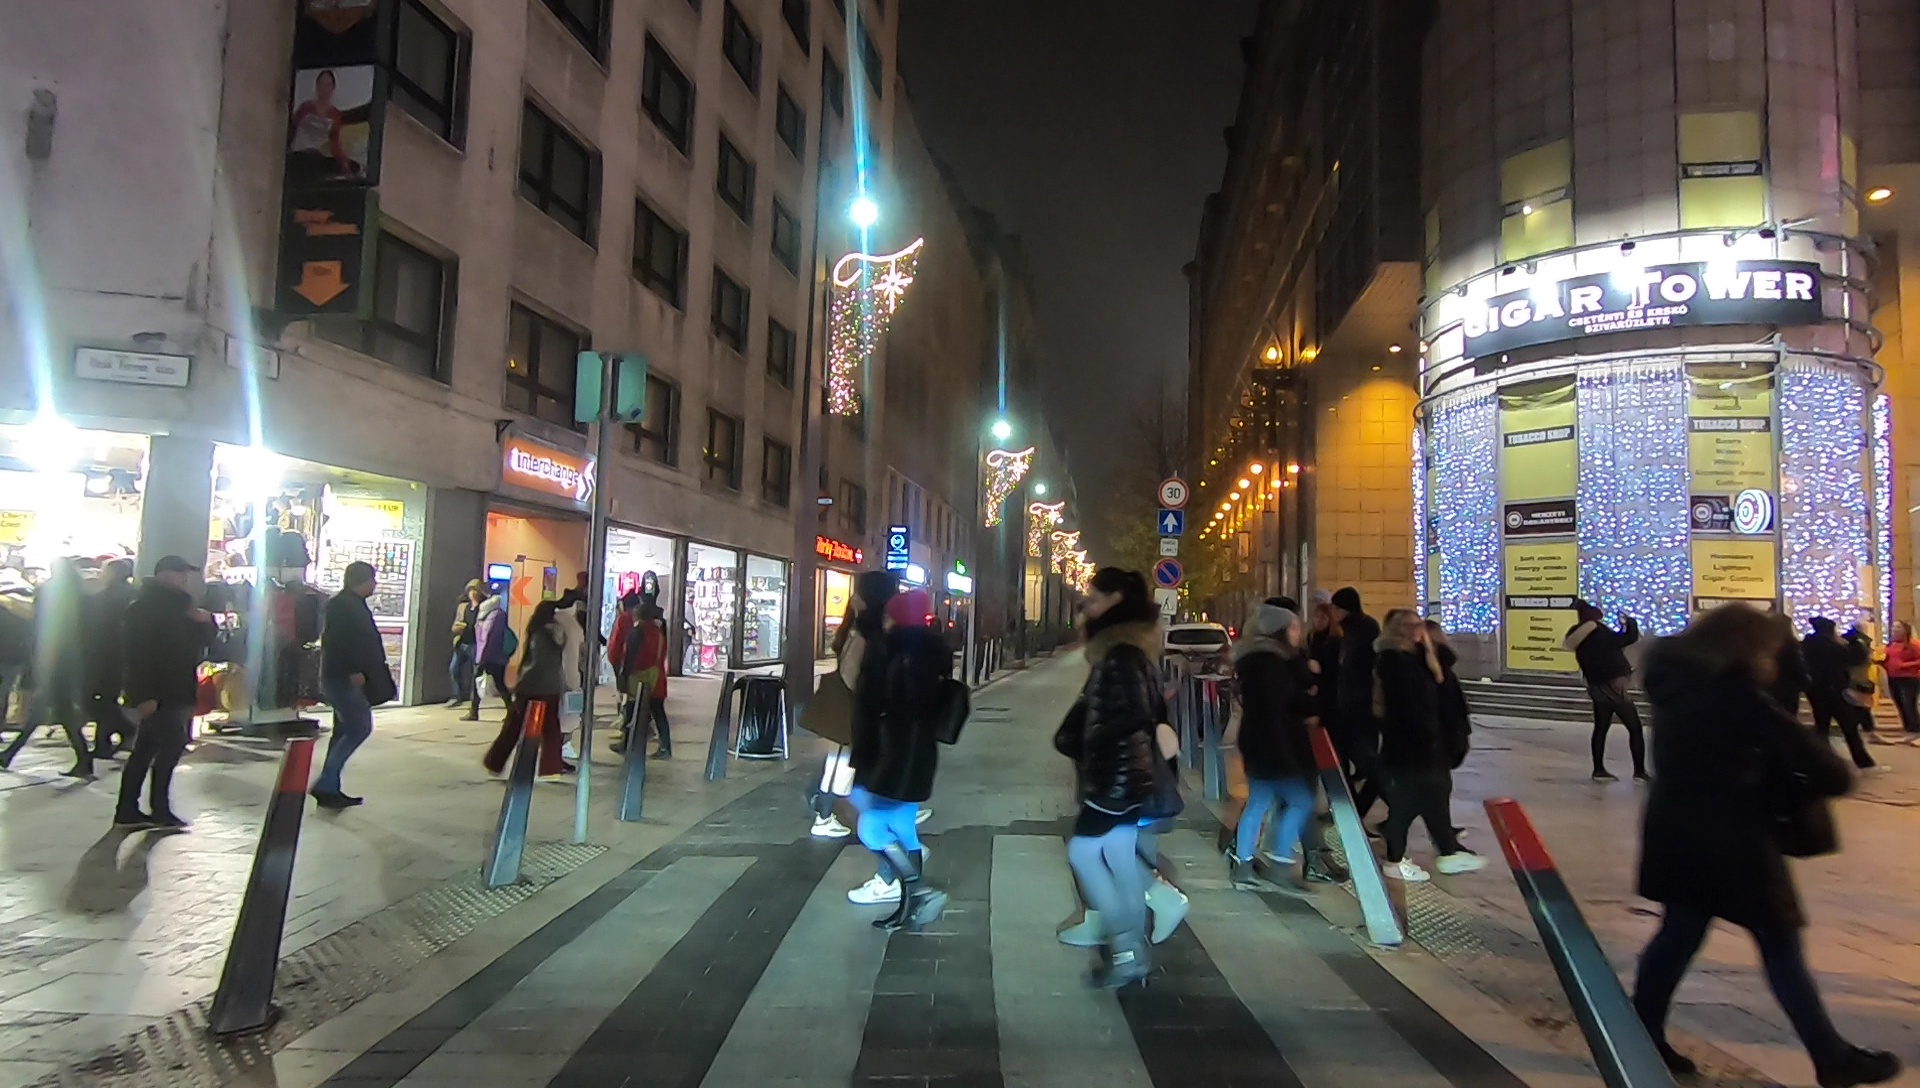person: (1635, 594, 1878, 1088), (1055, 558, 1154, 985), (811, 564, 928, 837), (1376, 613, 1485, 880), (113, 556, 203, 832), (876, 592, 947, 933), (1230, 605, 1310, 898), (309, 561, 392, 806), (1568, 600, 1649, 784), (1326, 587, 1383, 823), (1802, 614, 1873, 781), (1299, 602, 1339, 838), (622, 608, 675, 762), (514, 599, 563, 765), (469, 594, 518, 721), (547, 587, 587, 743), (608, 588, 648, 743), (446, 576, 484, 710), (1883, 621, 1920, 745)
